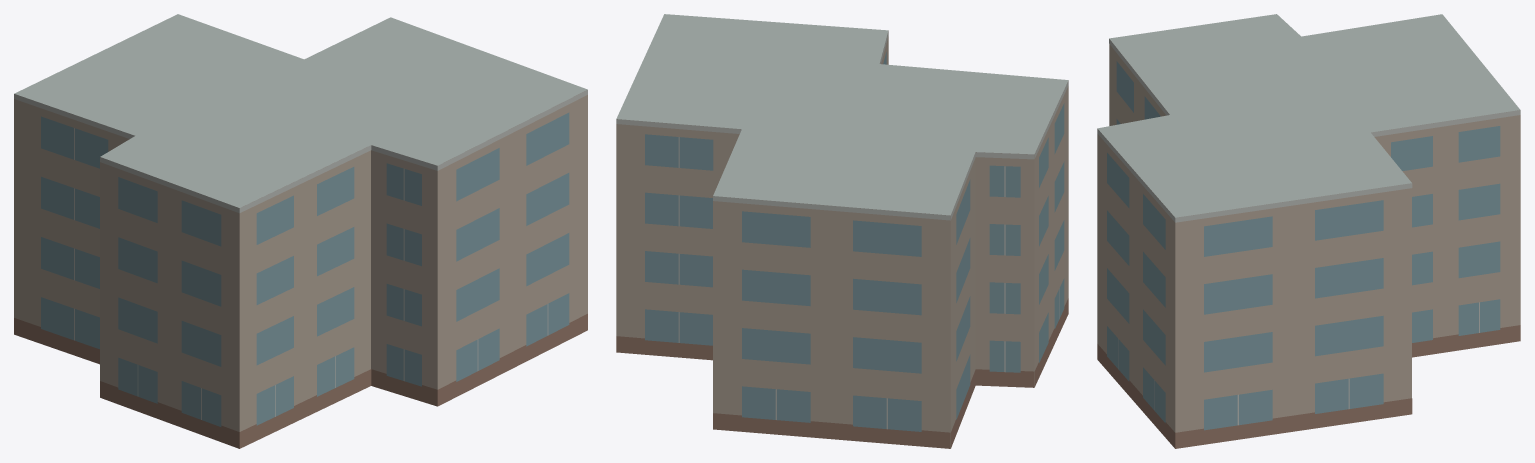
Rendered from survey-upis-32464794.glb.
The picture shows the model from 3 angles, left to right: view 1: azimuth 30°, elevation 25°; view 2: azimuth 150°, elevation 25°; view 3: azimuth 270°, elevation 25°; orthographic projection. The views are drawn at different scales.
Visible parts, largest first — view 1: survey-upis-32464794.tmp; view 2: survey-upis-32464794.tmp; view 3: survey-upis-32464794.tmp.
Boxes of the visible parts, x1,y1,x2,y2 form: survey-upis-32464794.tmp: (14,14,587,448); survey-upis-32464794.tmp: (616,14,1068,448); survey-upis-32464794.tmp: (1097,14,1520,448).
Size of the model in its own units: 21.37 by 11.3 by 18.76.
